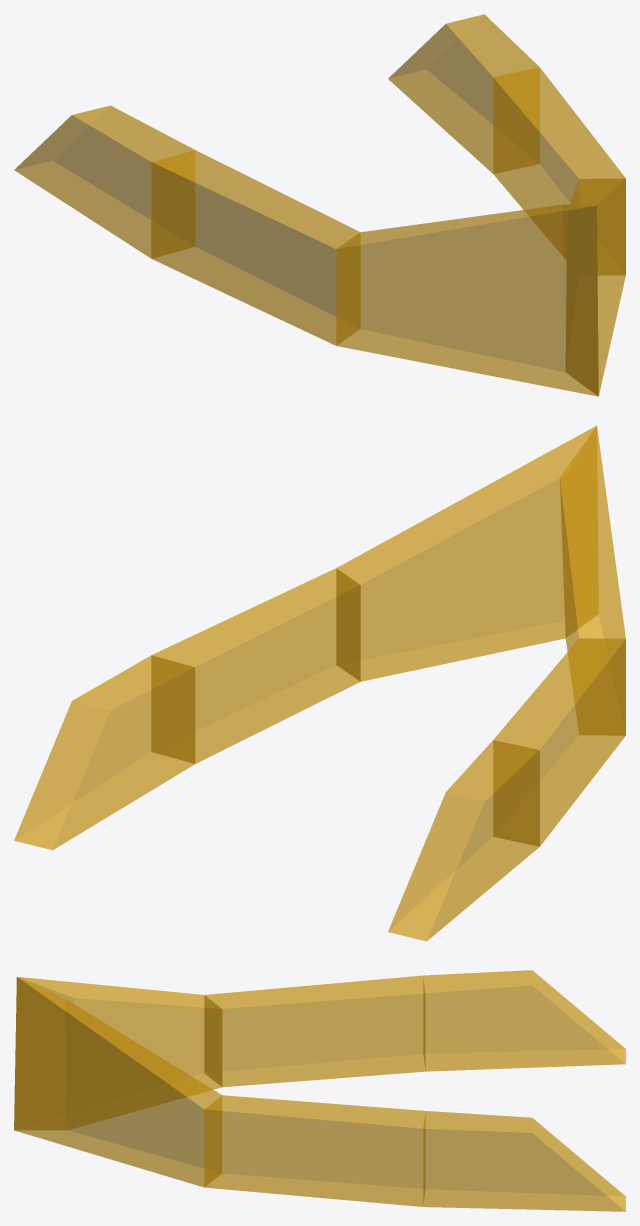
File: SM_Veh_Ship_M_Front_02_Collision.fbx
3 views of the same model, one above another, from view 1: azimuth 30°, elevation 25°; view 2: azimuth 150°, elevation 25°; view 3: azimuth 270°, elevation 25° (orthographic). The views are drawn at different scales.
Parts seen in each view (by area): view 1: SM_Veh_Ship_M_Front_02_Collision; view 2: SM_Veh_Ship_M_Front_02_Collision; view 3: SM_Veh_Ship_M_Front_02_Collision.
Boxes of the visible parts, x1=… form: SM_Veh_Ship_M_Front_02_Collision: x1=14, y1=14, x2=625, y2=396; SM_Veh_Ship_M_Front_02_Collision: x1=14, y1=425, x2=625, y2=941; SM_Veh_Ship_M_Front_02_Collision: x1=14, y1=970, x2=625, y2=1211.
Size of the model in its own units: 718 by 316 by 1140.
